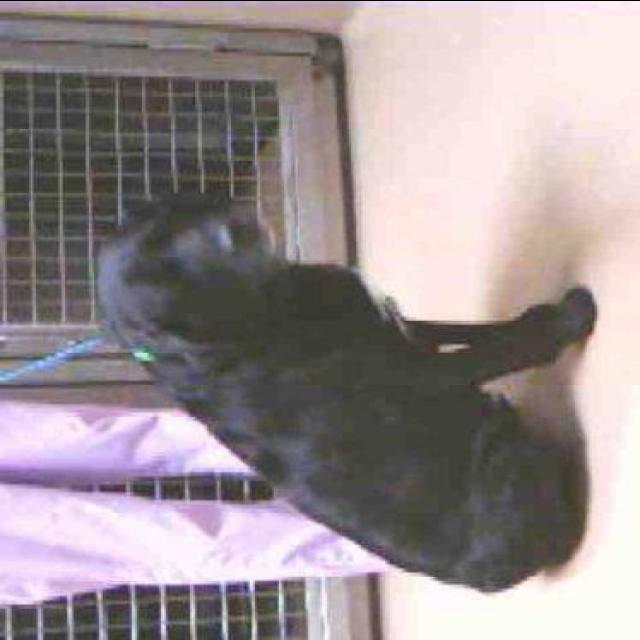dog: (77, 196, 603, 602)
